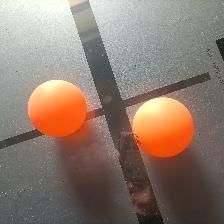YellowBall: (132, 96, 195, 159), (26, 79, 87, 138)
